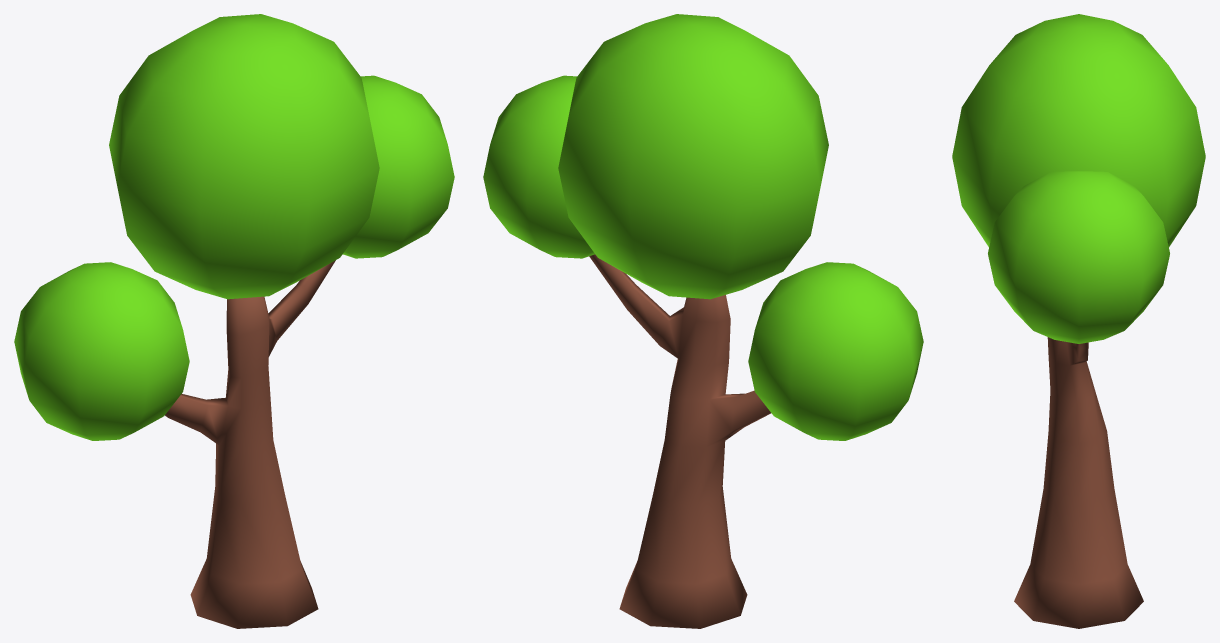
File: Tree 2.fbx
3 views of the same model, side by side, from view 1: azimuth 30°, elevation 25°; view 2: azimuth 150°, elevation 25°; view 3: azimuth 270°, elevation 25° (orthographic).
Parts seen in each view (by area): view 1: Tree 1.001; view 2: Tree 1.001; view 3: Tree 1.001.
Boxes of the visible parts, left/top/right/bottom form: Tree 1.001: left=14, top=14, right=454, bottom=628; Tree 1.001: left=483, top=14, right=923, bottom=628; Tree 1.001: left=952, top=14, right=1205, bottom=628.
Size of the model in its own units: 109 by 142 by 57.5.
